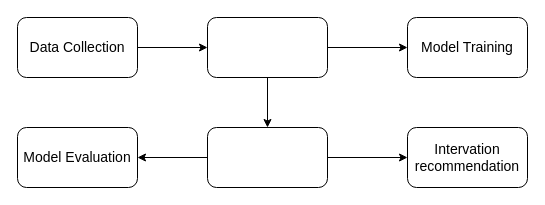
The diagram is 545 pixels wide and 205 high, and some of its shapes have lost their labels. The box of each missing label's shape, as (x1, y1, x2, y2) in pixels:
Correlation Analysis: (206, 126, 328, 188)
Data Preprocessing: (206, 16, 328, 78)
